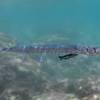Fistularia commersonii: (1, 40, 100, 59)
